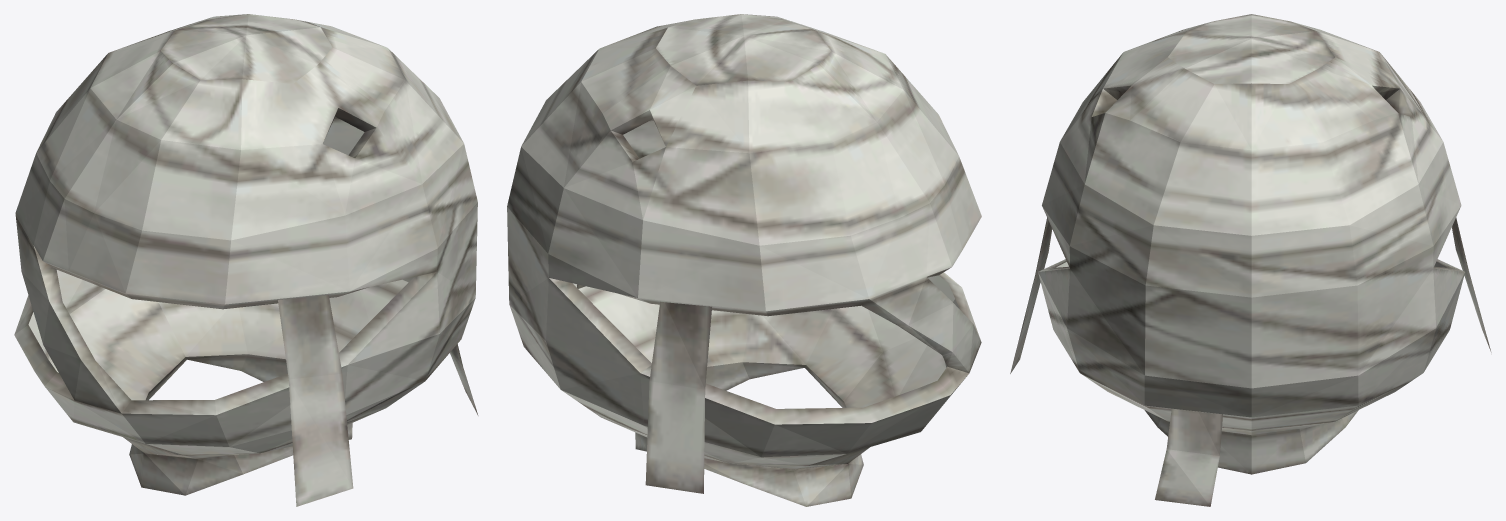
The model's file is Panda_mummyHead.obj.
3 views of the same model, side by side, from view 1: azimuth 30°, elevation 25°; view 2: azimuth 150°, elevation 25°; view 3: azimuth 270°, elevation 25° (orthographic). The views are drawn at different scales.
Parts seen in each view (by area): view 1: Panda_mummyHead_tri; view 2: Panda_mummyHead_tri; view 3: Panda_mummyHead_tri.
Part boxes in pixels (x1,y1,x2,y2): Panda_mummyHead_tri: (14, 14, 478, 506); Panda_mummyHead_tri: (507, 14, 981, 506); Panda_mummyHead_tri: (1010, 14, 1491, 506).
Bounding box in the file's own units: 0.3984 × 0.3983 × 0.4225.
Materials: 1 (1 with a texture image).
